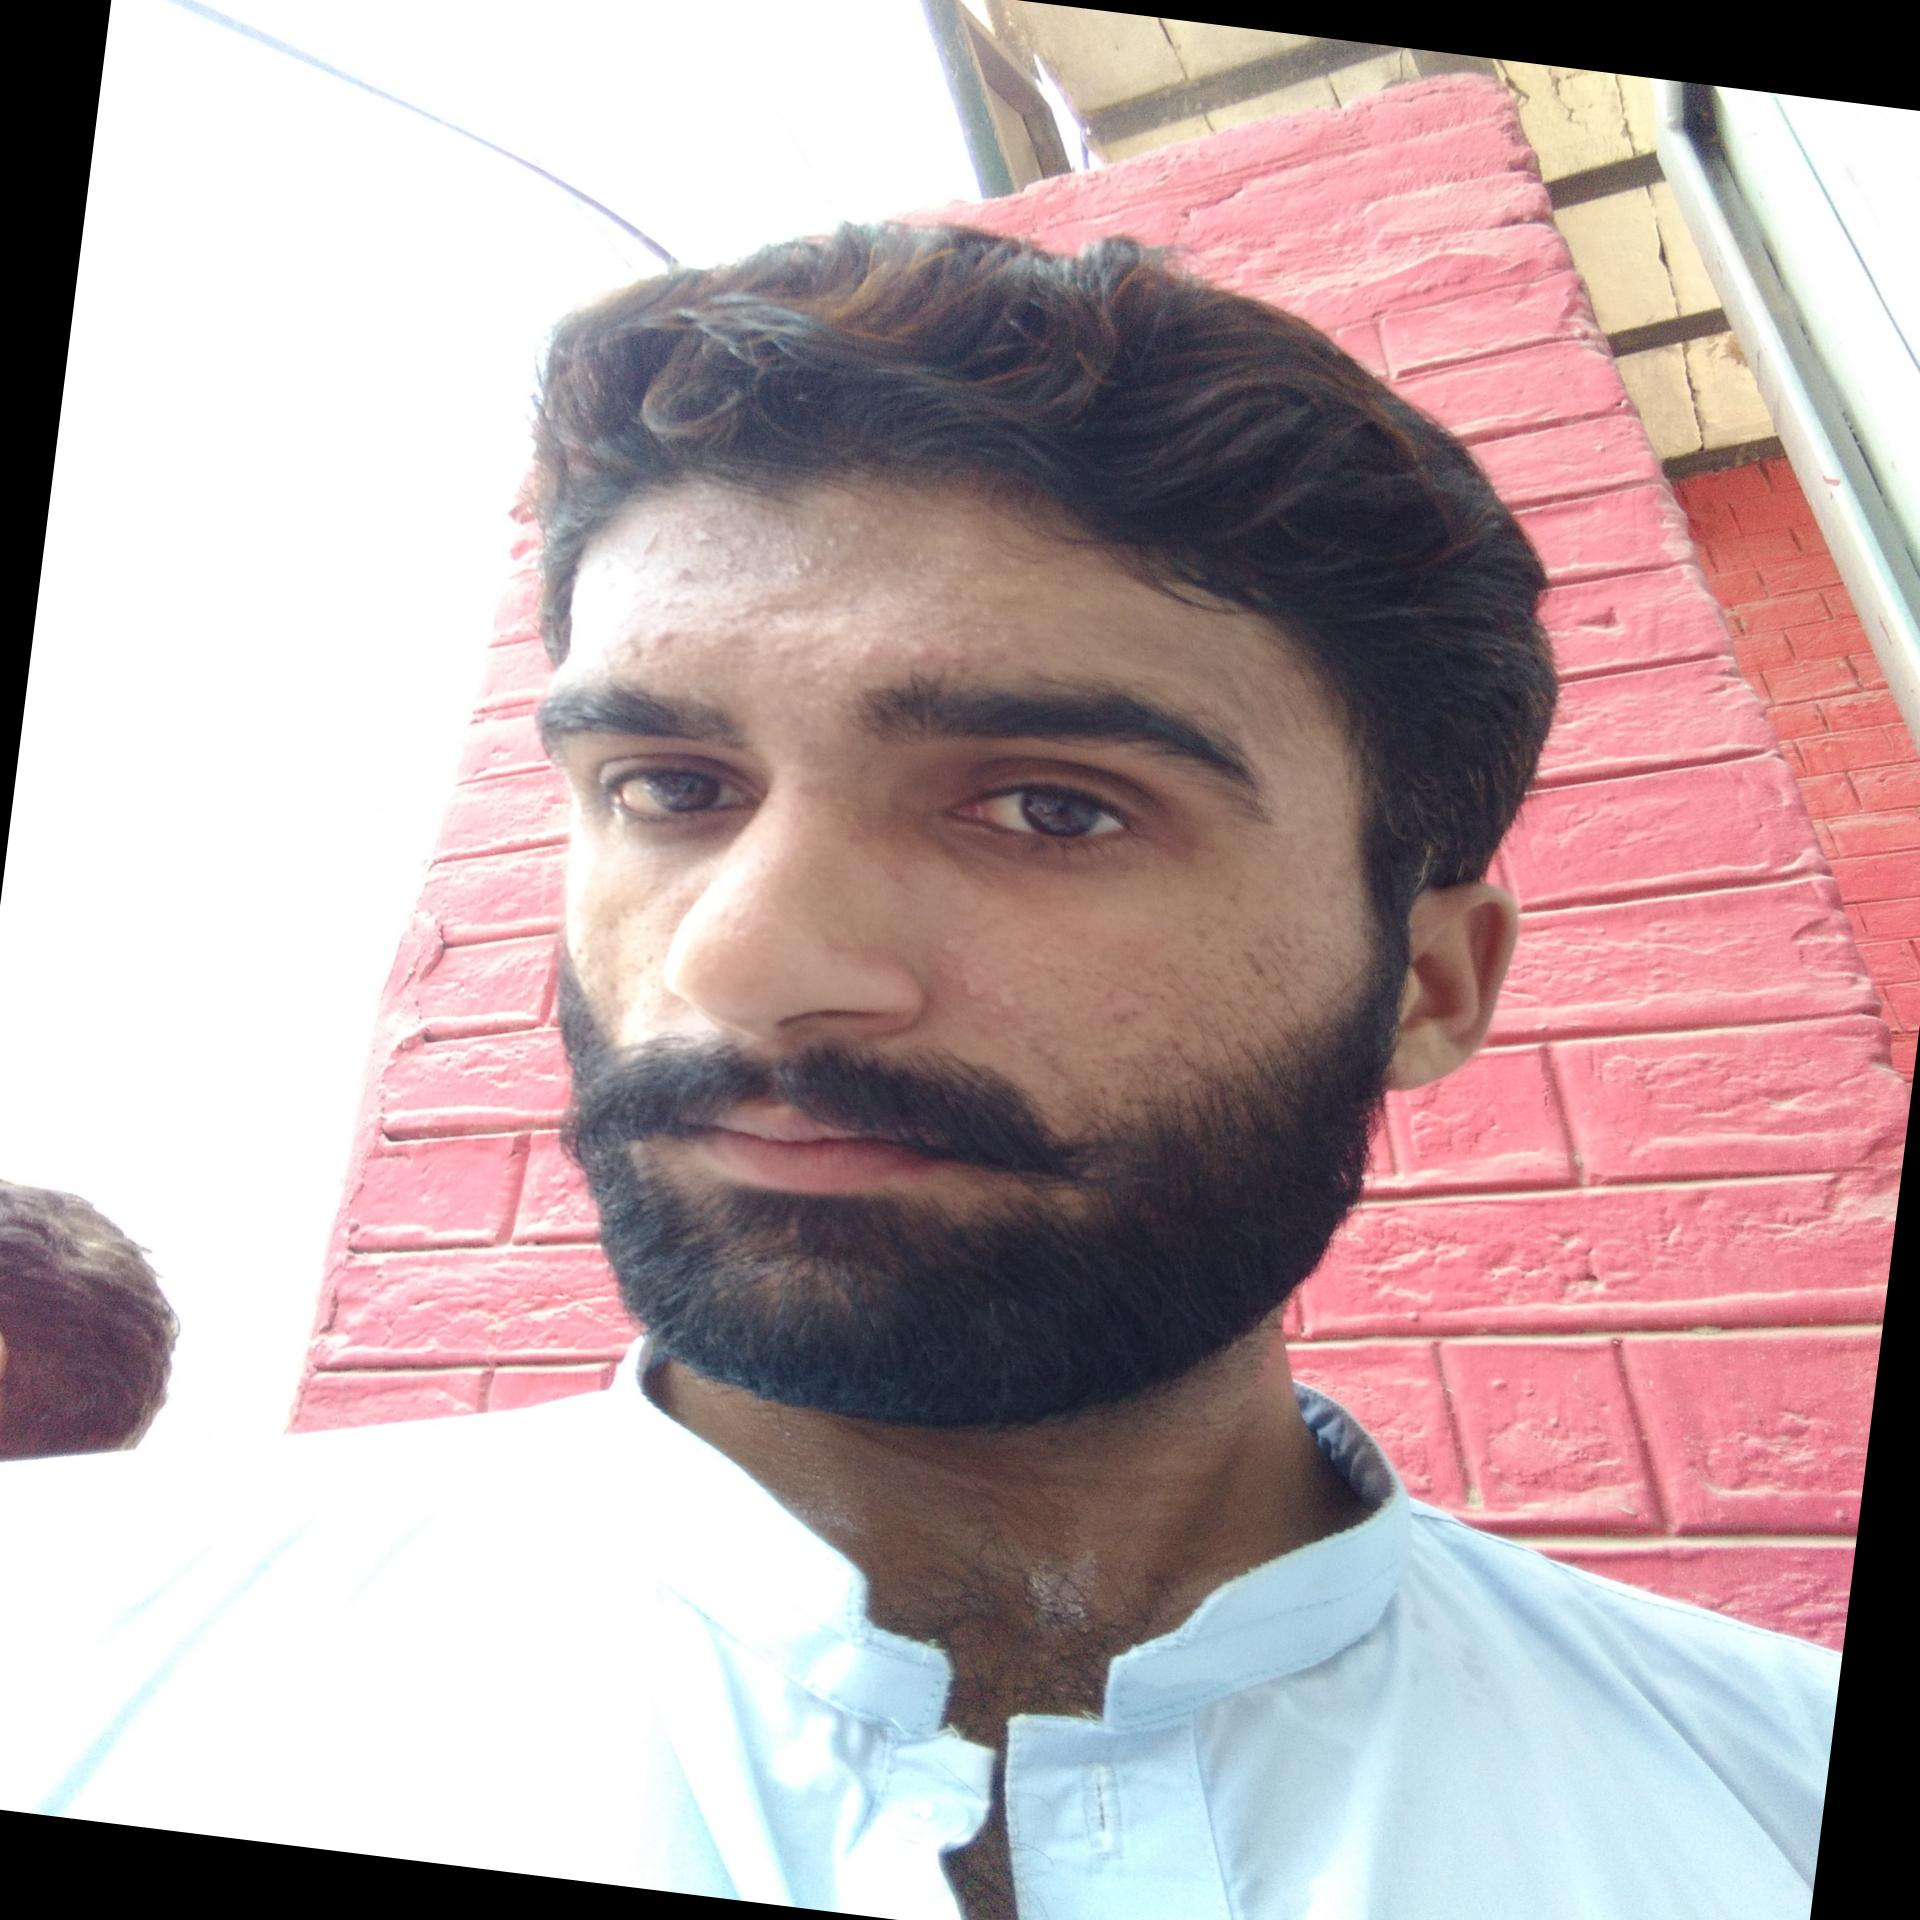Acne: (851, 626, 979, 679), (615, 615, 684, 668), (786, 775, 821, 795), (677, 559, 703, 584)
Dark Circles: (923, 814, 1138, 904), (612, 795, 751, 860)
Dry Skin: (612, 587, 993, 698), (628, 526, 796, 605), (840, 556, 986, 624)
Englarged Pores: (1115, 914, 1296, 1050), (568, 862, 696, 1013), (935, 942, 1125, 1044)
